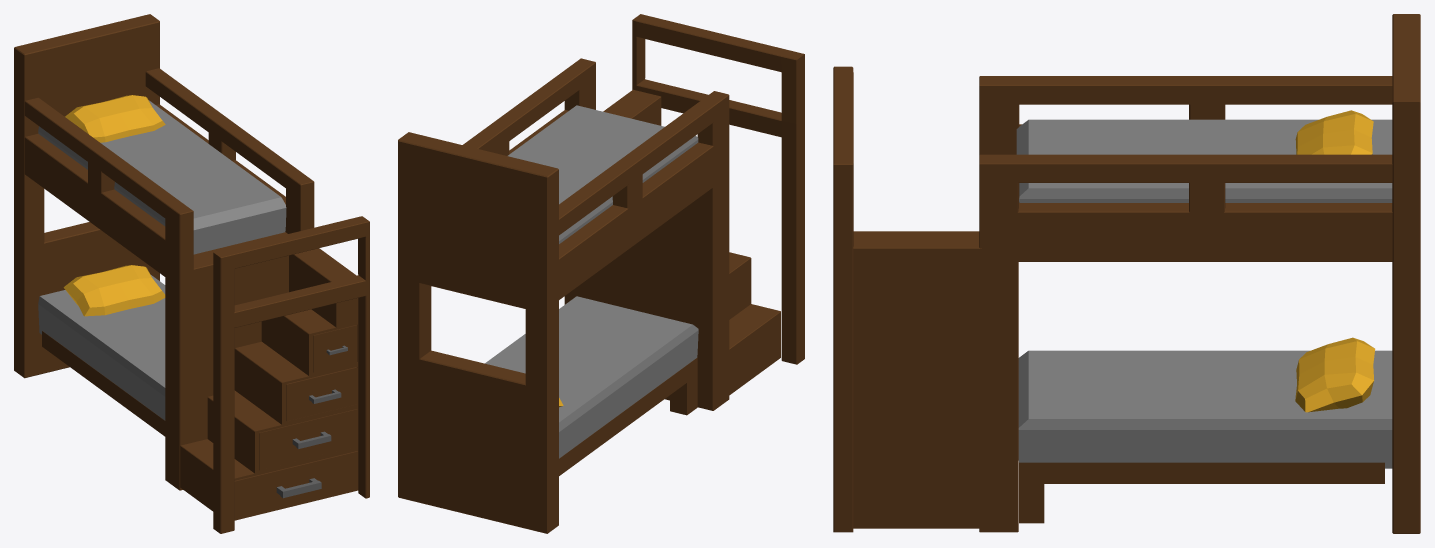
The model's file is BunkBed1.glb.
3 renders of one model, left to right at view 1: azimuth 30°, elevation 25°; view 2: azimuth 150°, elevation 25°; view 3: azimuth 270°, elevation 25°, orthographic. The views are drawn at different scales.
Parts seen in each view (by area): view 1: BunkBed1, Drawer4_BunkBed1, Drawer3_BunkBed1, Drawer2_BunkBed1, Drawer1_BunkBed1; view 2: BunkBed1; view 3: BunkBed1.
Boxes of the visible parts, box(x1,y1,x2,y2) form: BunkBed1: box(14, 14, 369, 533); Drawer4_BunkBed1: box(234, 451, 357, 518); Drawer3_BunkBed1: box(259, 409, 357, 470); Drawer2_BunkBed1: box(286, 367, 357, 421); Drawer1_BunkBed1: box(313, 325, 356, 372); BunkBed1: box(398, 14, 804, 533); BunkBed1: box(833, 14, 1420, 533).
Size of the model in its own units: 1.42 by 2.94 by 3.62.
